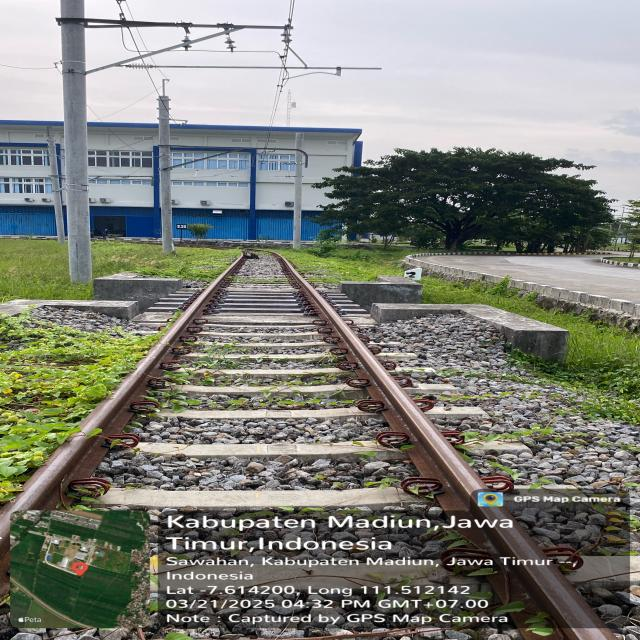rail-detection: (274, 254, 614, 640), (0, 254, 245, 562)
